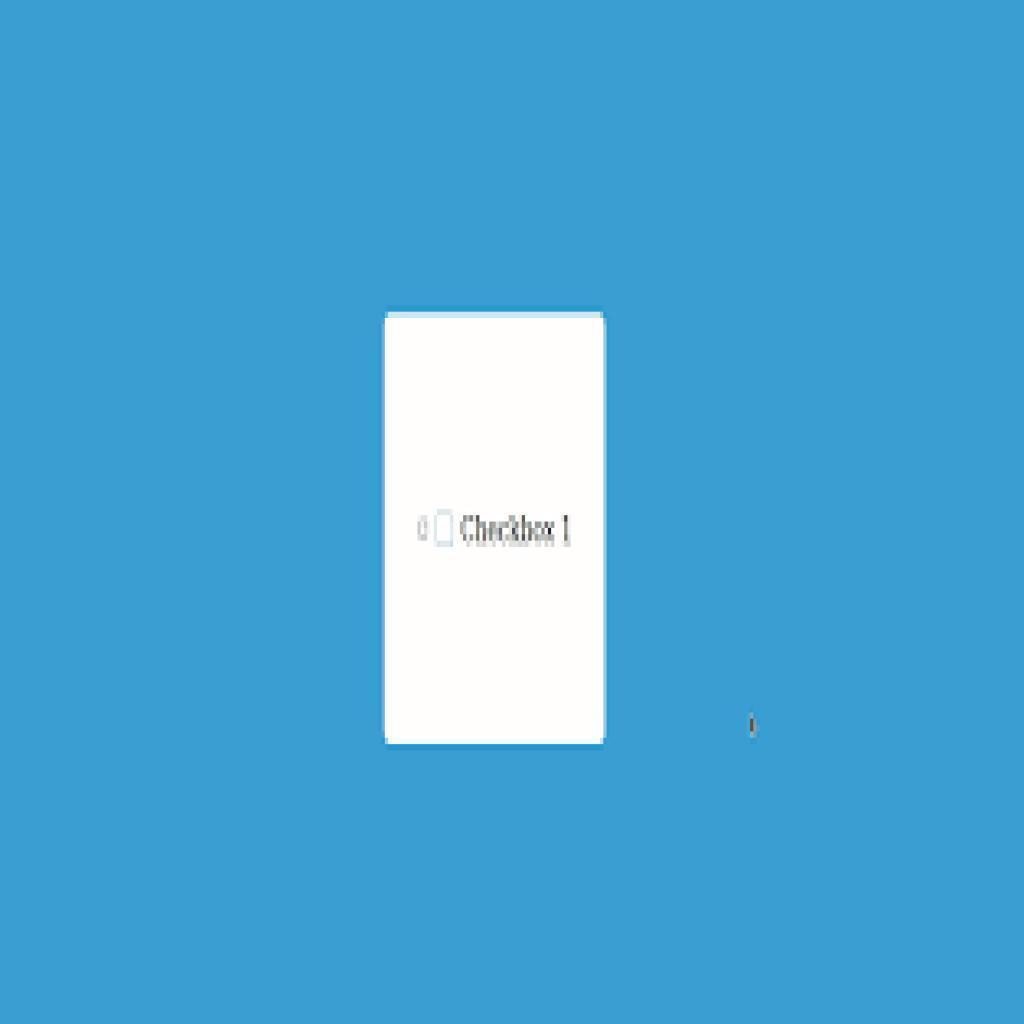checkbox: (434, 512, 458, 547)
